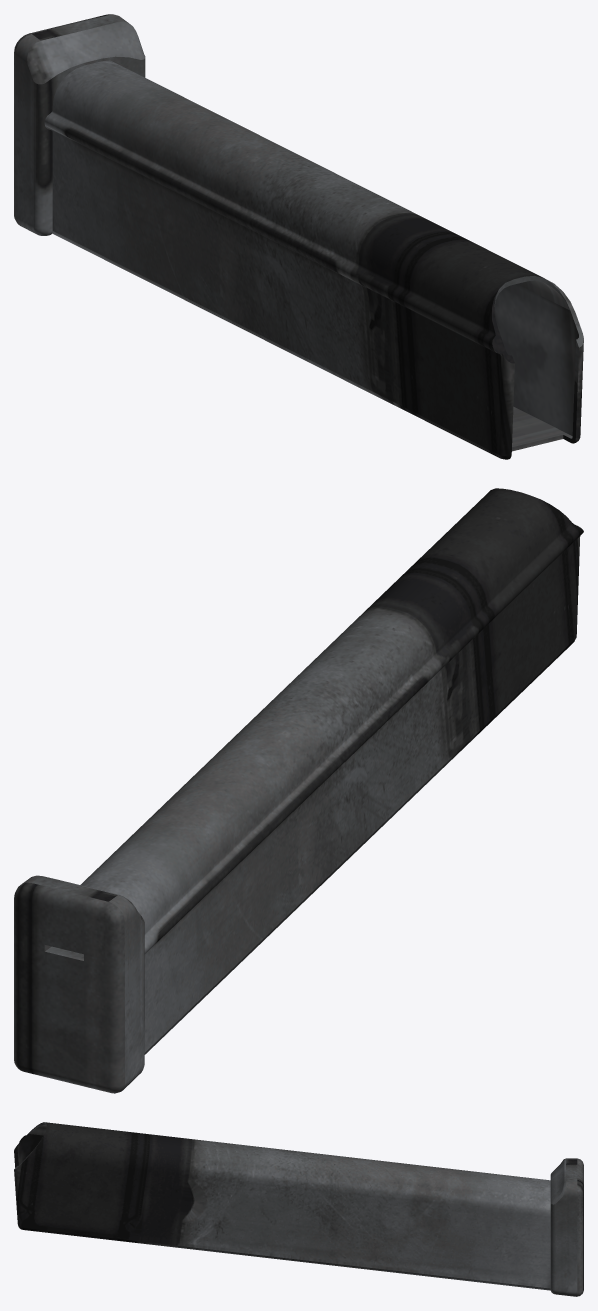
File: Mag380ExtSm.fbx
The picture shows the model from 3 angles, top to bottom: view 1: azimuth 30°, elevation 25°; view 2: azimuth 150°, elevation 25°; view 3: azimuth 270°, elevation 25°; orthographic projection. The views are drawn at different scales.
Parts seen in each view (by area): view 1: Mag308ExtSm; view 2: Mag308ExtSm; view 3: Mag308ExtSm.
Part boxes in pixels (bbox=[...]): Mag308ExtSm: bbox=[14, 14, 583, 459]; Mag308ExtSm: bbox=[14, 488, 583, 1093]; Mag308ExtSm: bbox=[14, 1122, 583, 1296].
Size of the model in its own units: 0.0165 by 0.0379 by 0.1247.
